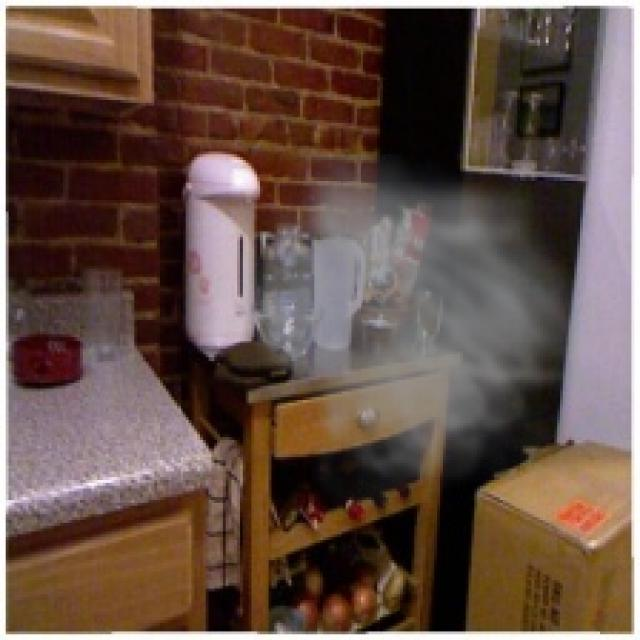smoke: (220, 154, 603, 520)
